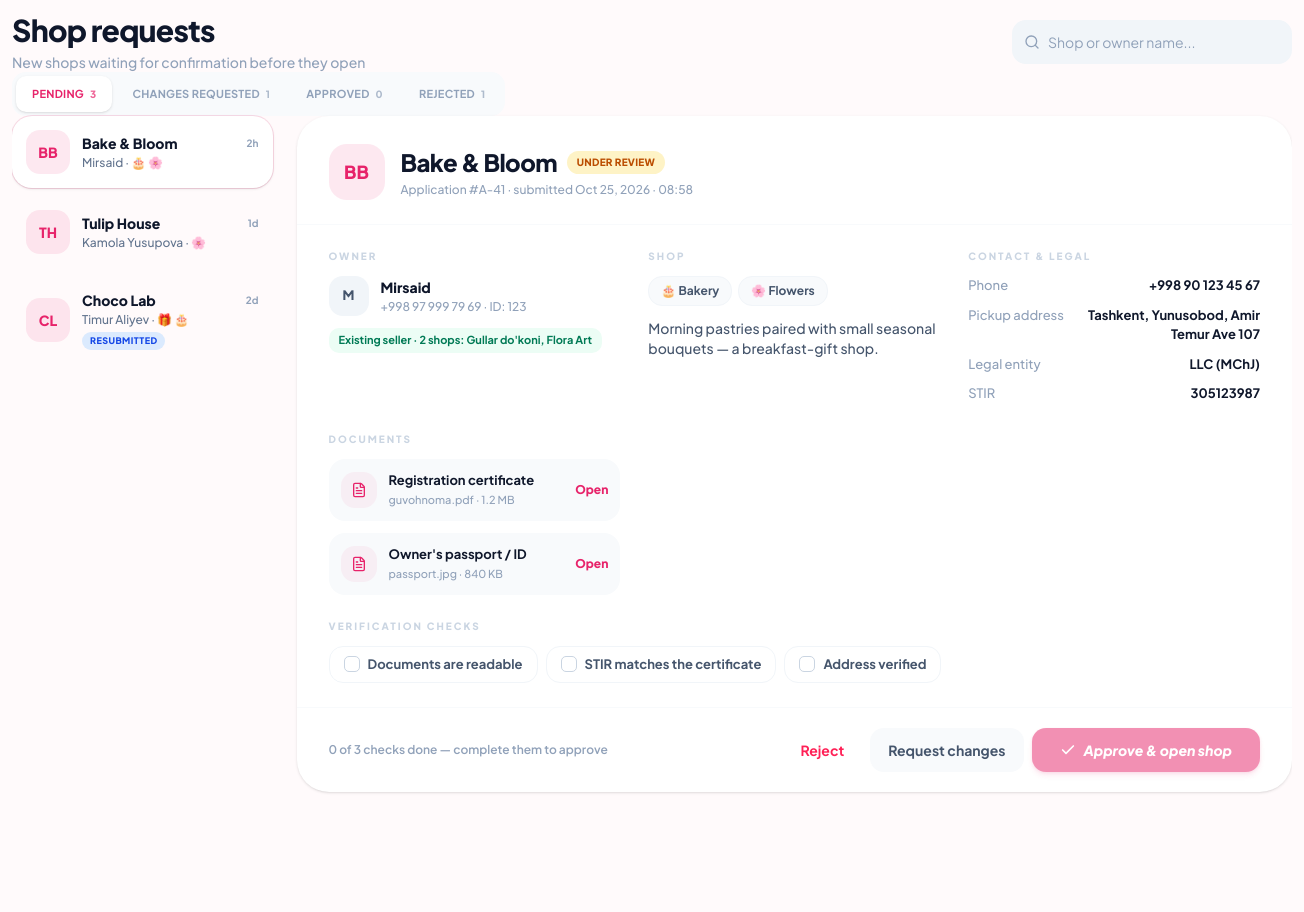
Test: ShopRequestsPage › approves after all checks and moves on to the next pending request
expect the button "Approve & open shop" is disabled: met, box 1032,728 -> 1260,772
Click the checkbox labelled "Documents are readable": (433, 664) 328,646 -> 538,683
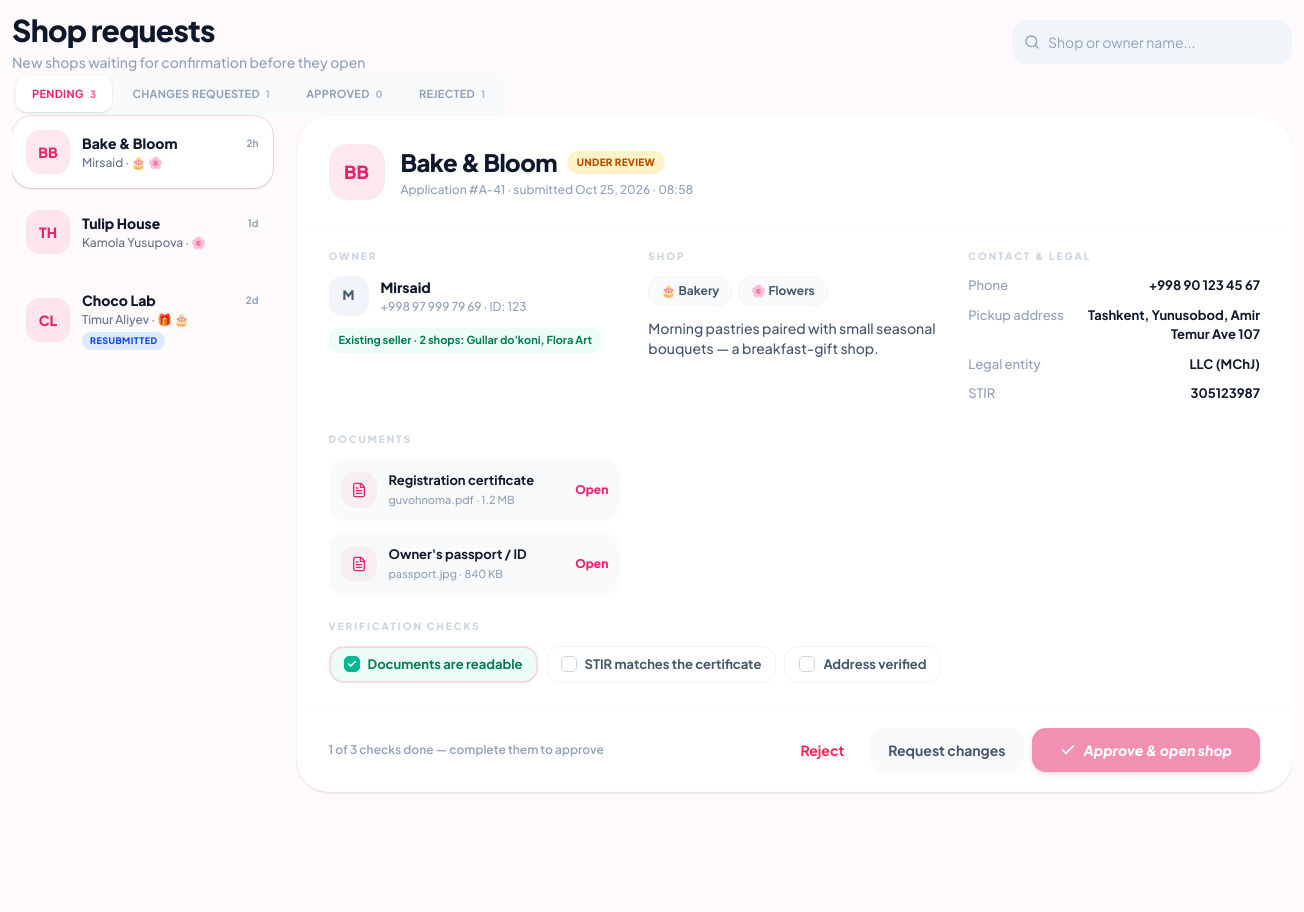
Click the checkbox labelled "STIR matches the certificate": (661, 664) 546,646 -> 776,683
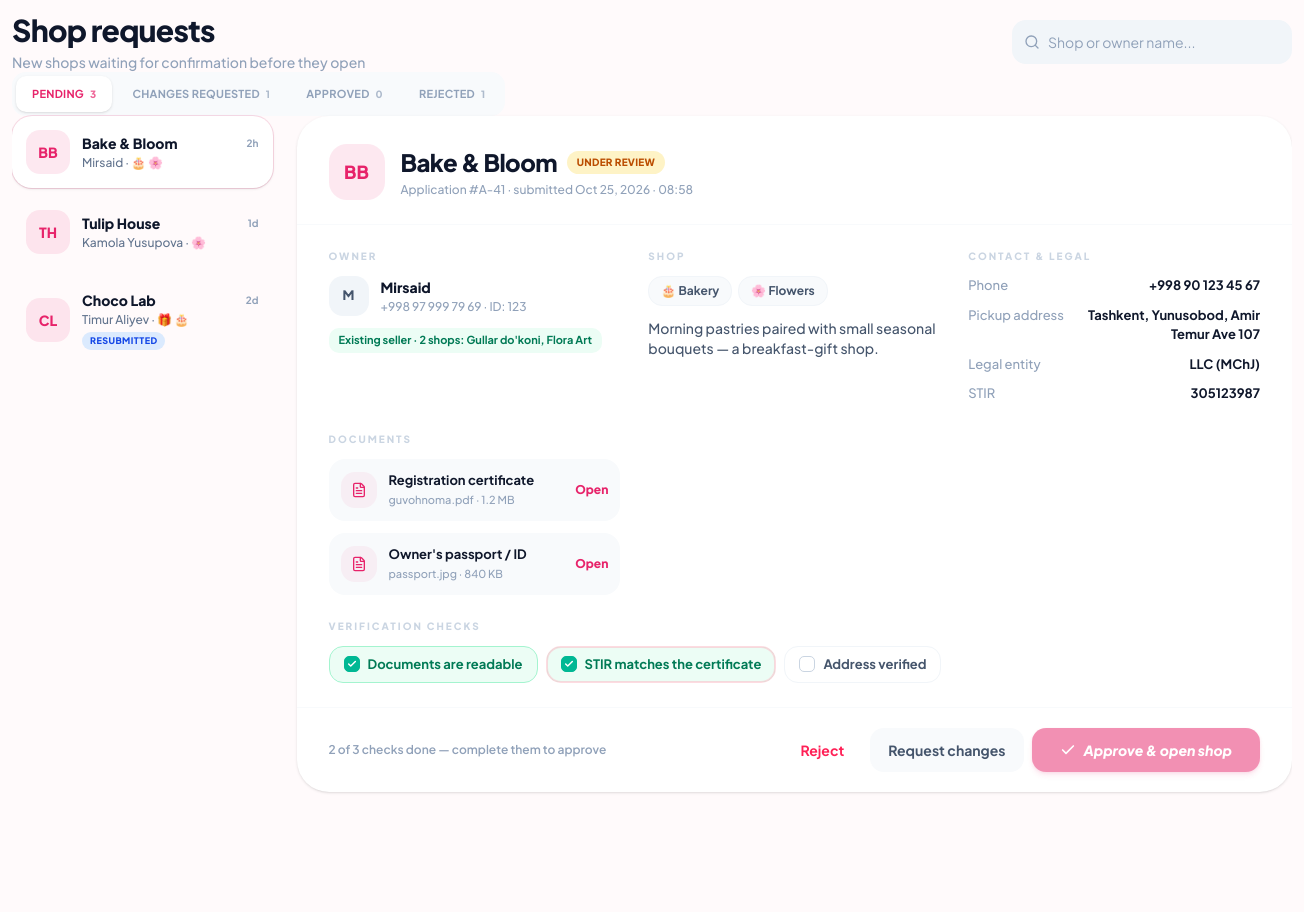
Click the checkbox labelled "Address verified": (863, 664) 784,646 -> 942,683
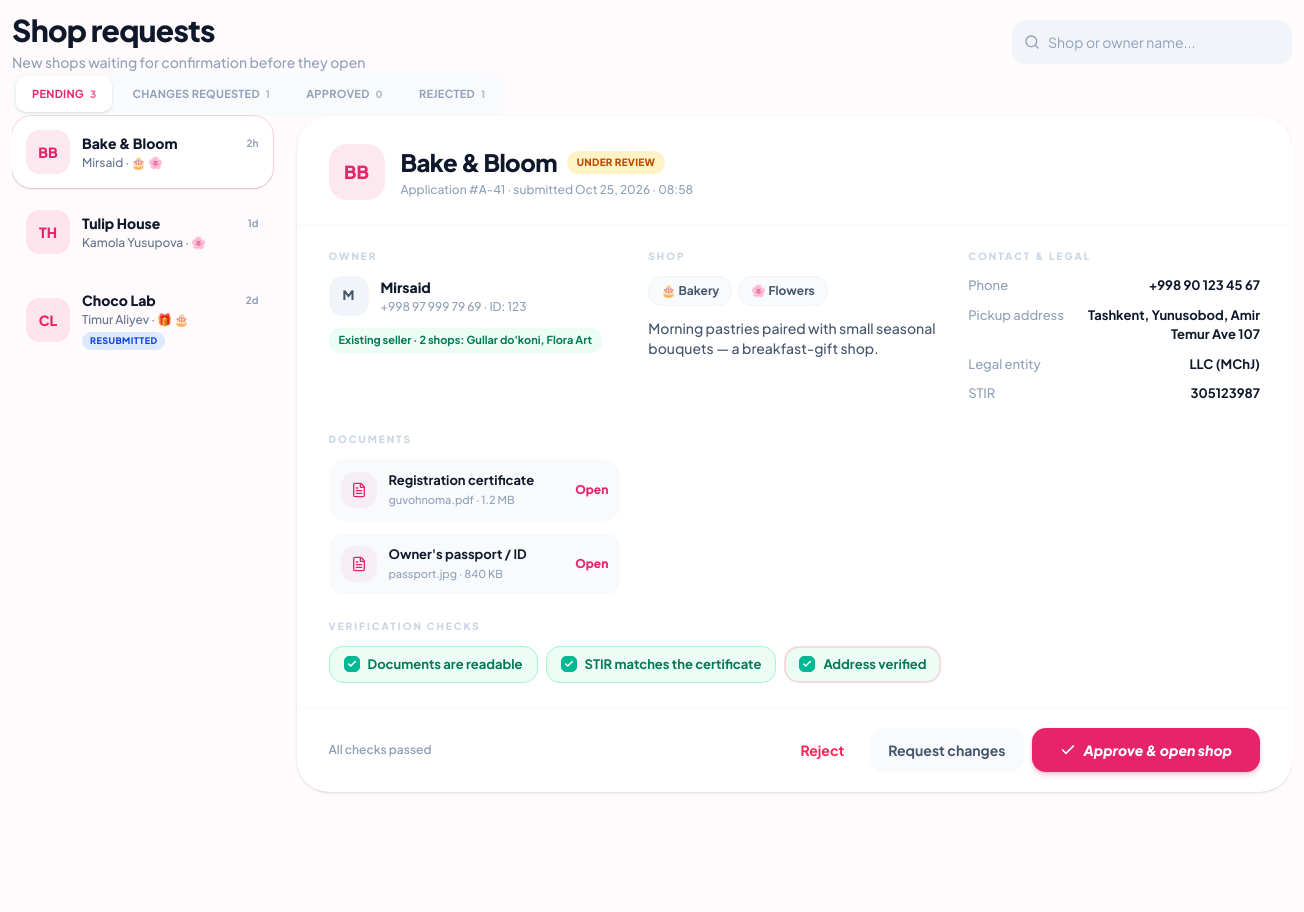
expect the button "Approve & open shop" is enabled: met
Click the button "Approve & open shop": (1146, 750) 1032,728 -> 1260,772
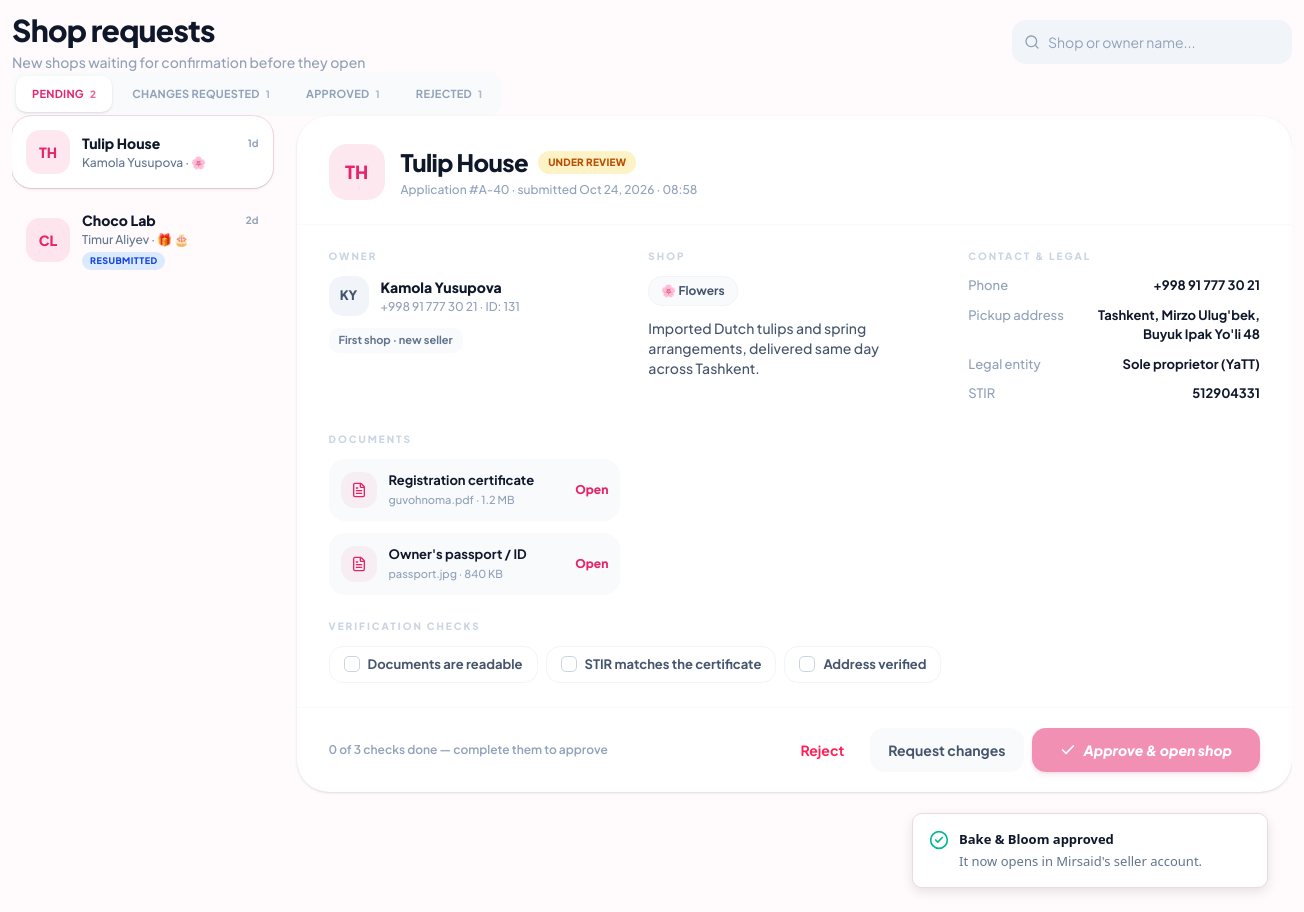
expect the text "Bake & Bloom approved" is shown: met, box 959,830 -> 1114,848
expect the element named "Tulip House application" is shown: met, box 296,116 -> 1292,792
expect the tab "Pending 2" is shown: met, box 16,76 -> 112,112
